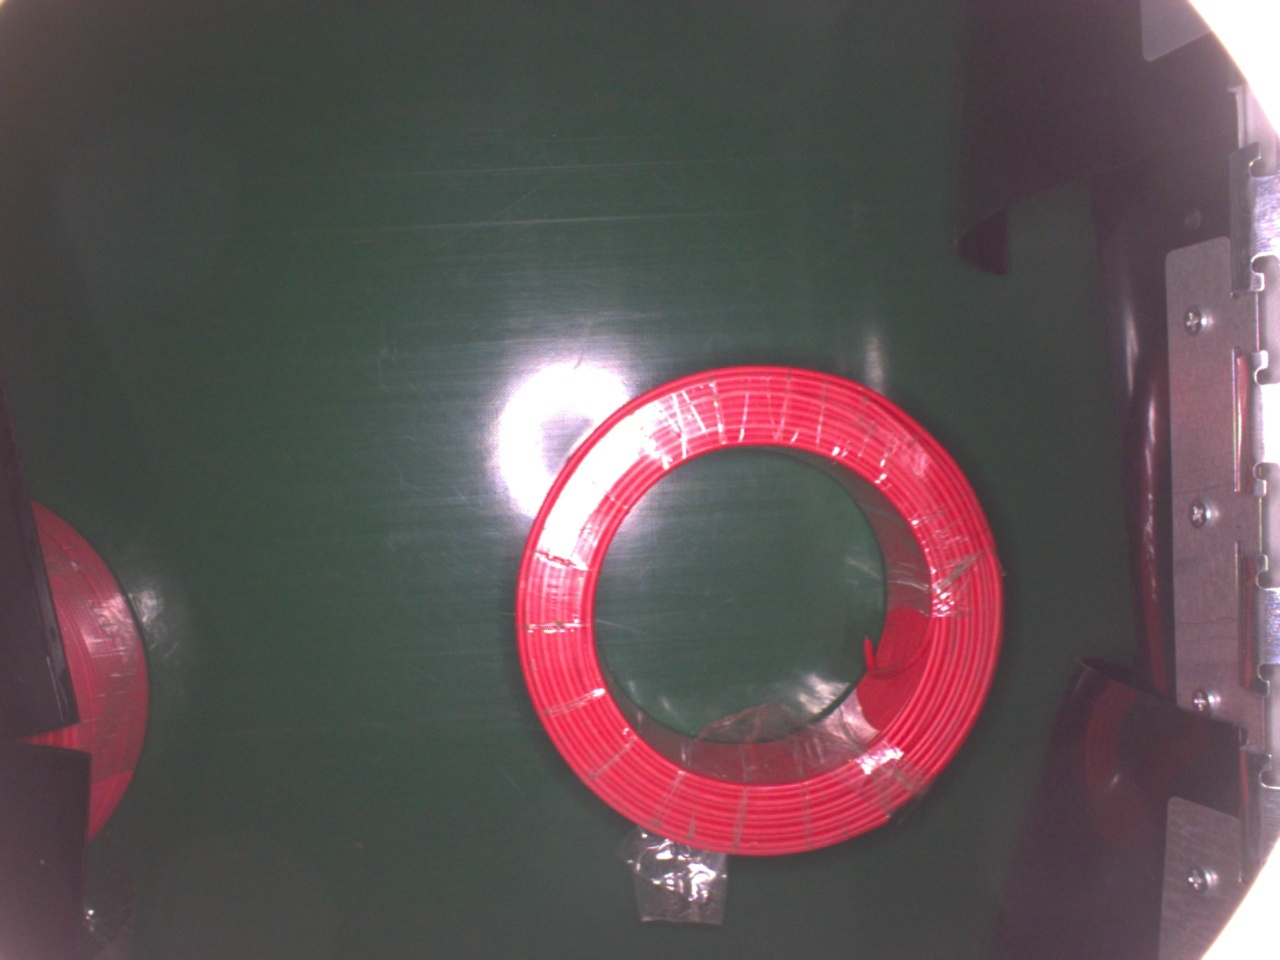red: (515, 362, 999, 845)
